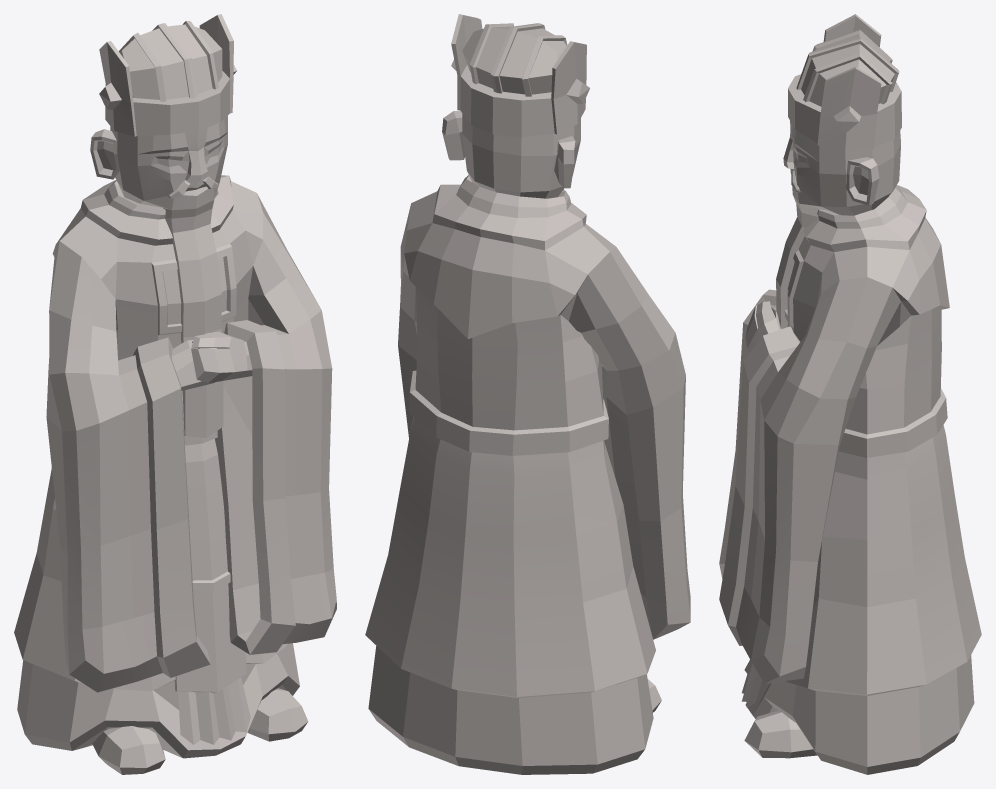
Rendered from SM_Sculpture_07.fbx.
The picture shows the model from 3 angles, left to right: view 1: azimuth 30°, elevation 25°; view 2: azimuth 150°, elevation 25°; view 3: azimuth 270°, elevation 25°; orthographic projection. The views are drawn at different scales.
Parts seen in each view (by area): view 1: SM_Sculpture_07; view 2: SM_Sculpture_07; view 3: SM_Sculpture_07.
Part boxes in pixels (left/top/right/bottom): SM_Sculpture_07: left=14, top=14, right=336, bottom=774; SM_Sculpture_07: left=365, top=14, right=690, bottom=774; SM_Sculpture_07: left=719, top=14, right=981, bottom=774.
Size of the model in its own units: 186 by 455 by 160.
